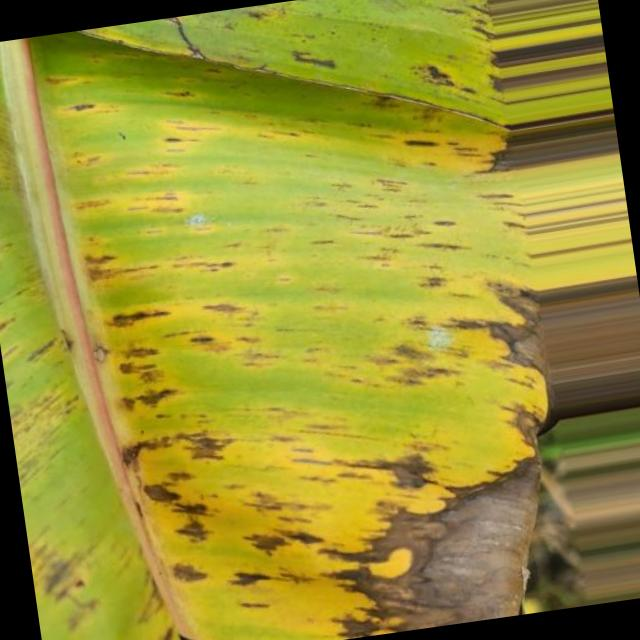Banana_Black_Sigatoka: (51, 275, 575, 640), (33, 0, 530, 301)
